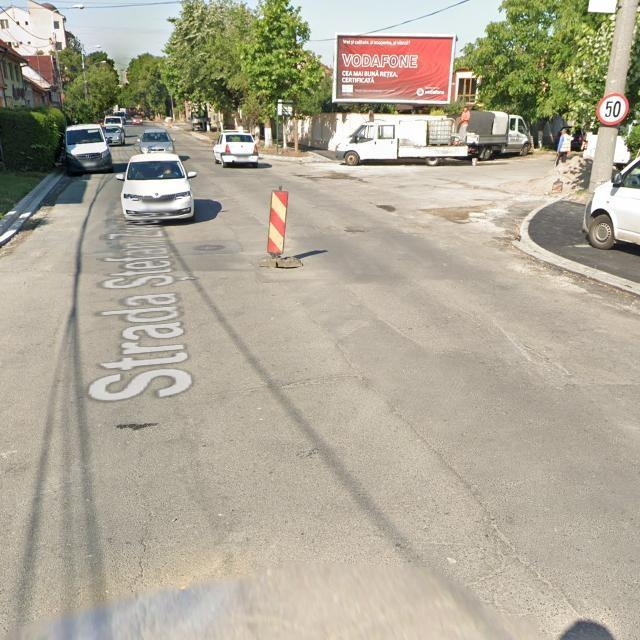forb_speed_over_50: (597, 94, 630, 126)
